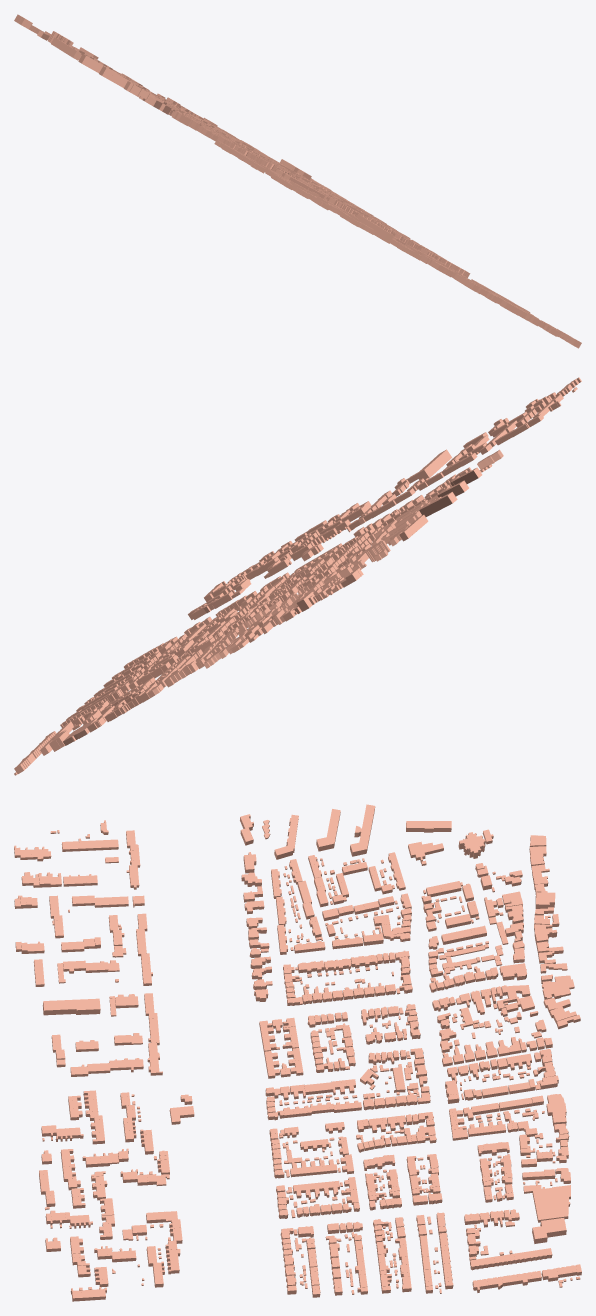
3 renders of one model, top to bottom at view 1: azimuth 30°, elevation 25°; view 2: azimuth 150°, elevation 25°; view 3: azimuth 270°, elevation 25°, orthographic. The views are drawn at different scales.
Size of the model in its own units: 511 by 380 by 630.
